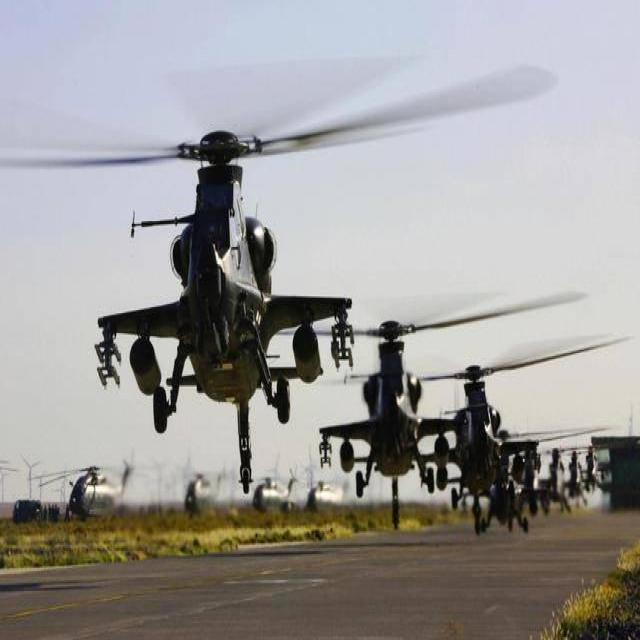MIL_HELO: (5, 43, 557, 505), (250, 277, 568, 493), (336, 332, 629, 500)
